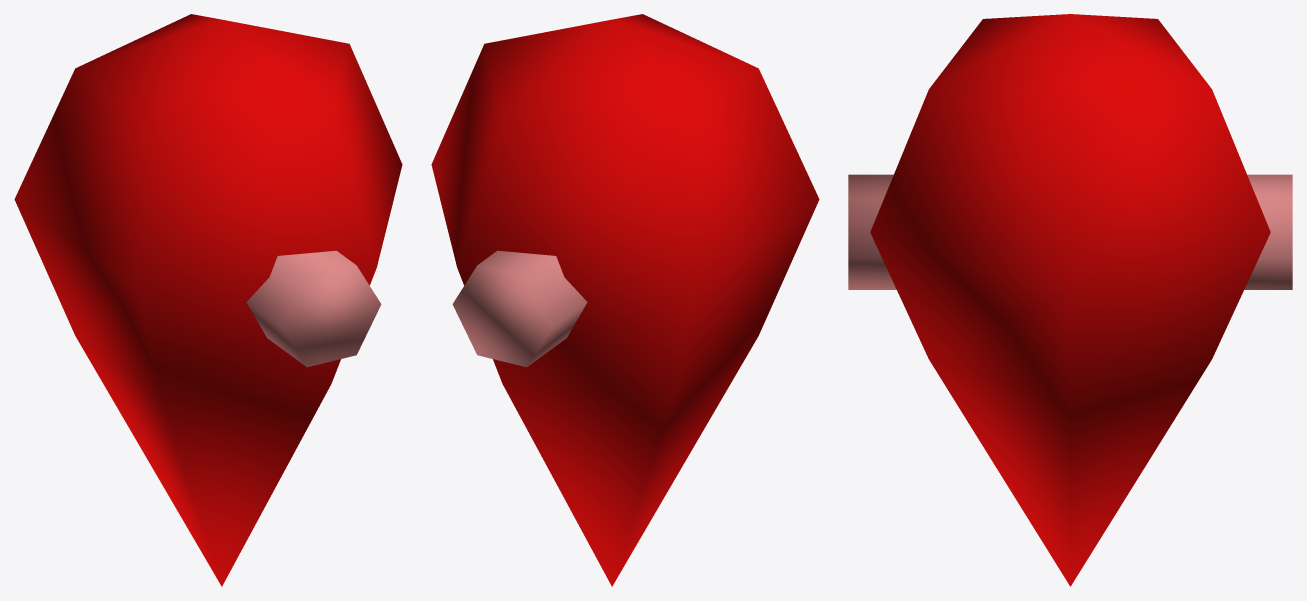
The model's file is M_TinyIP_01.fbx.
3 renders of one model, left to right at view 1: azimuth 30°, elevation 25°; view 2: azimuth 150°, elevation 25°; view 3: azimuth 270°, elevation 25°, orthographic.
Parts seen in each view (by area): view 1: normal7; view 2: normal7; view 3: normal7.
Part boxes in pixels (x1,y1,x2,y2): normal7: (14,14,402,586); normal7: (431,14,819,586); normal7: (848,14,1292,586).
Size of the model in its own units: 1.81 by 3 by 2.11.
